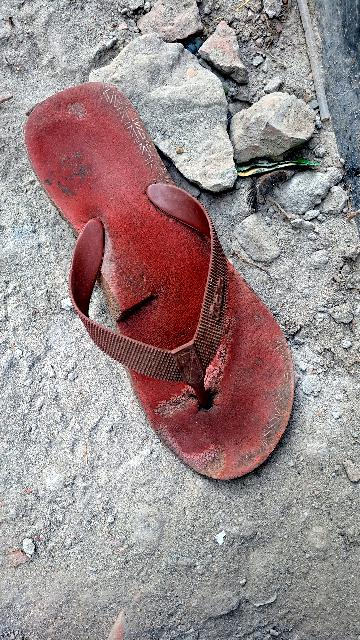sandal: (0, 53, 334, 509)
